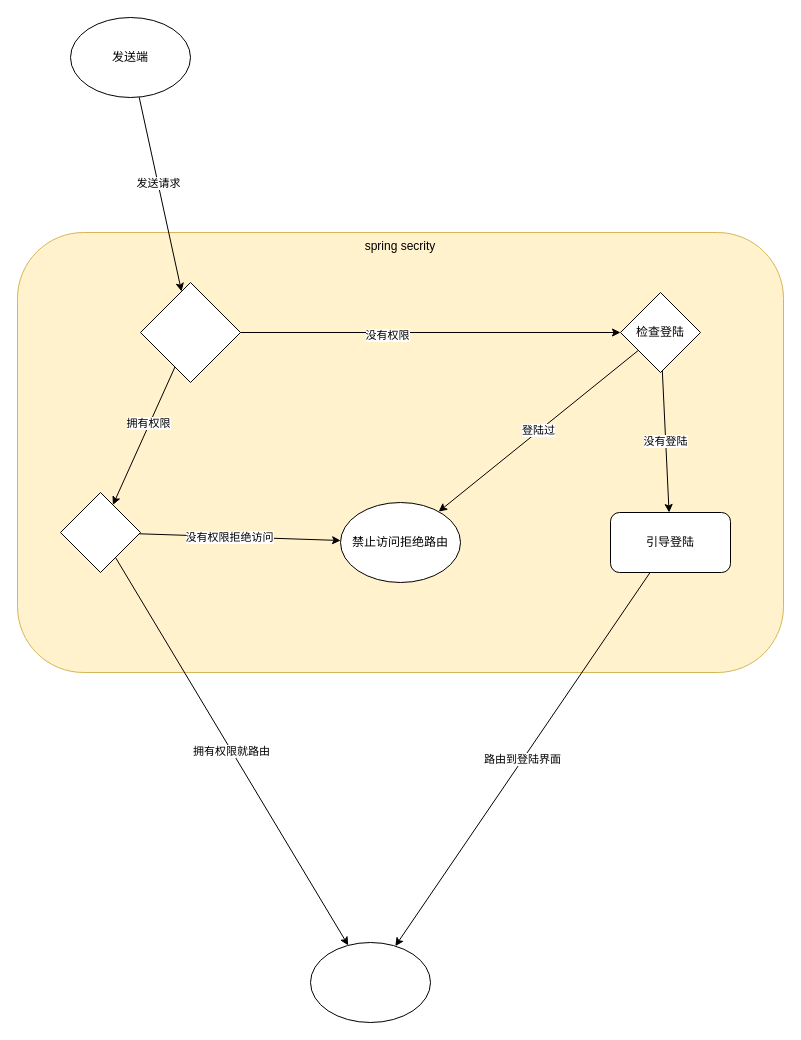
Image size: 801x1040. Some labels were removed from this diagram. Here are the shapes that lost their labels. From the top down, the centre of each, then its label:
At point 190,332: "url权限校验".
At point 100,532: "资源权限检查".
At point 370,982: "路由".
